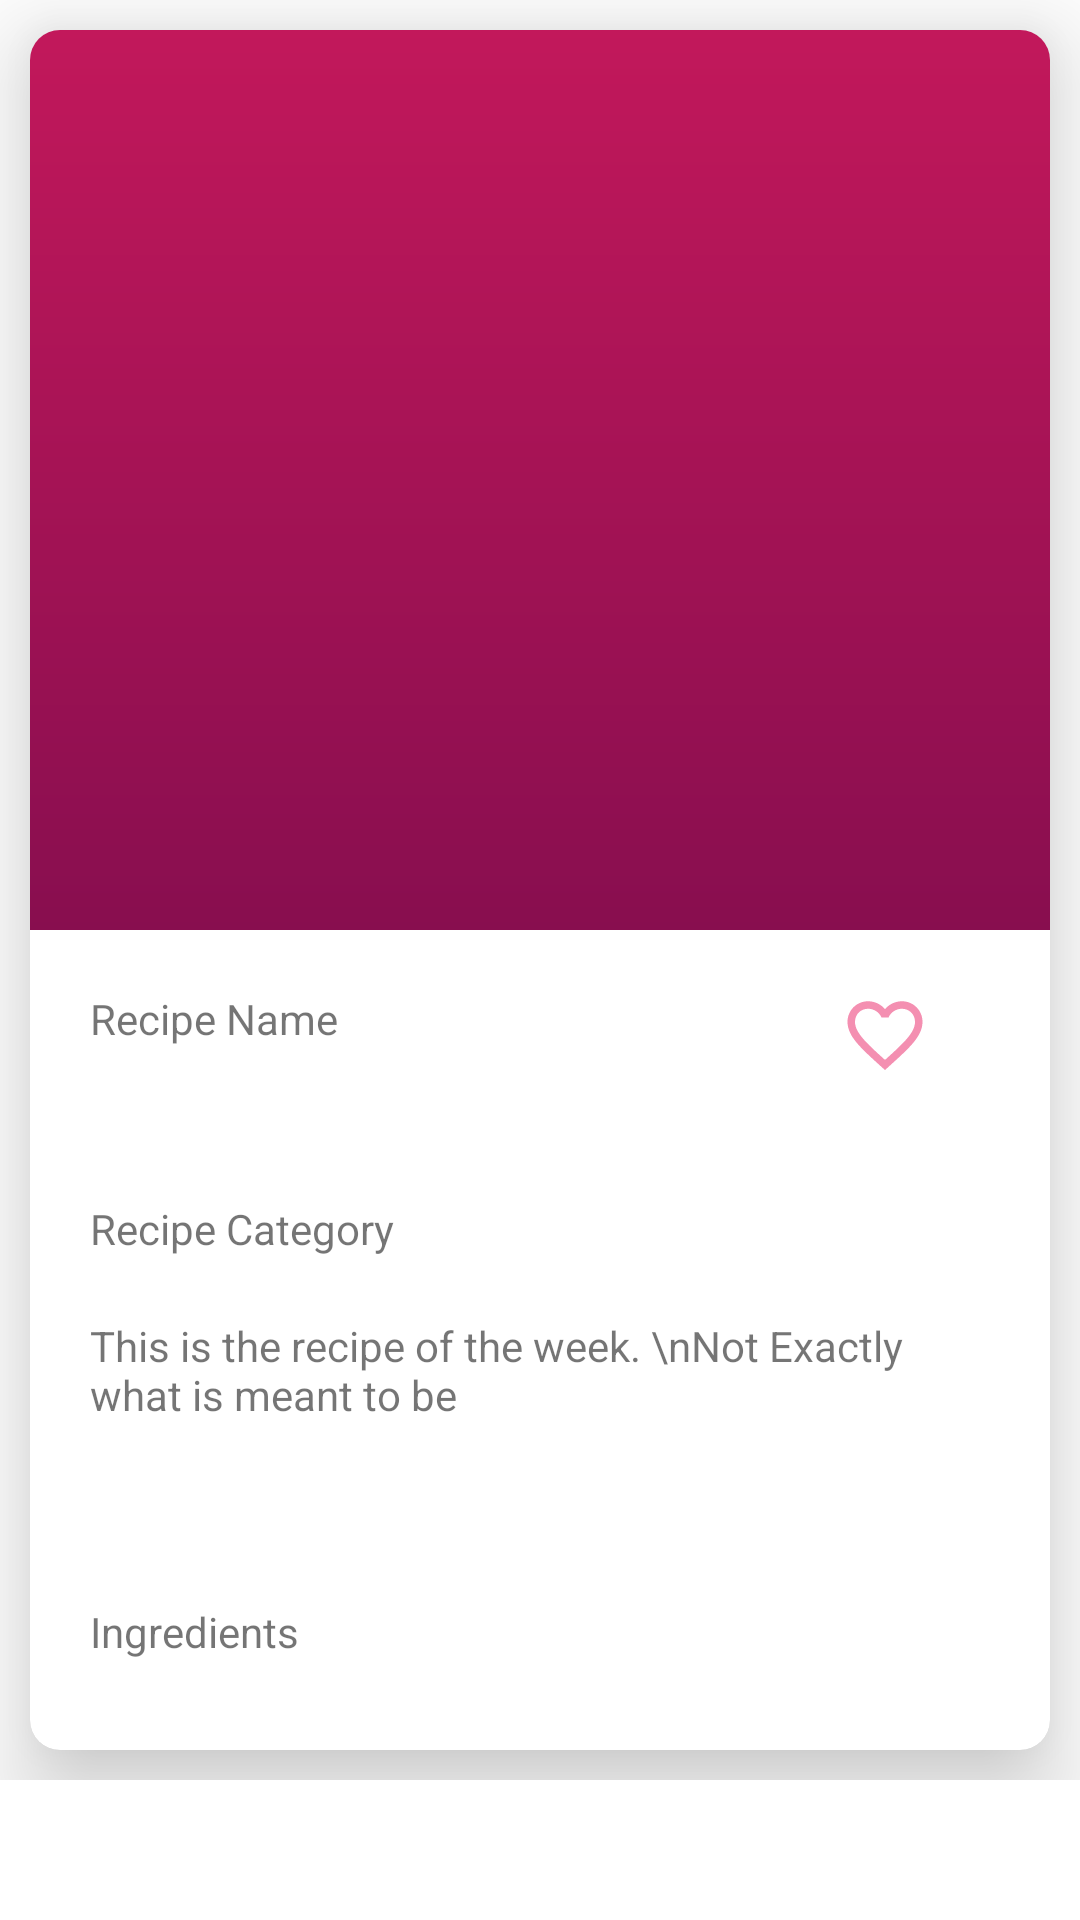

Where icons sit on this 1080px x 1920px app screen, as (x1, y1, x2, y2):
favorite border: (847, 1001, 923, 1070)
